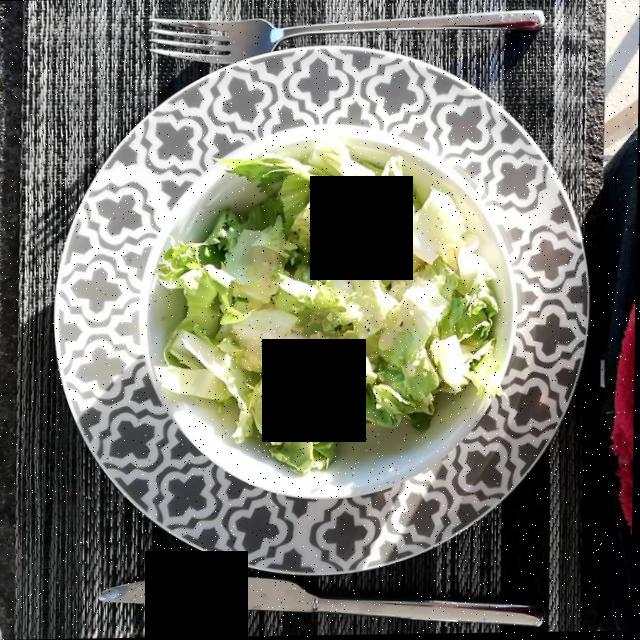salad-leaf-salad-green: (160, 152, 506, 463)
